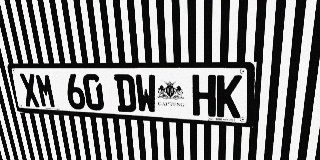0: (82, 74, 105, 111)
6: (64, 74, 86, 110)
D: (114, 74, 137, 113)
H: (192, 75, 216, 117)
K: (216, 75, 242, 118)
M: (34, 74, 57, 108)
W: (134, 74, 157, 114)
X: (19, 73, 41, 107)
